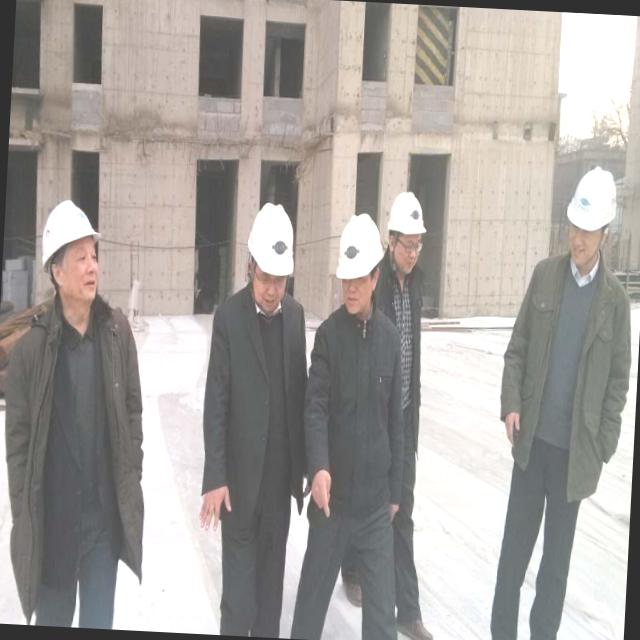helmet: (242, 198, 304, 288), (36, 198, 106, 274), (332, 207, 391, 290), (560, 162, 626, 233), (386, 190, 430, 247)
no-goggles: (62, 246, 100, 276)
no-vest: (0, 303, 161, 588), (194, 290, 318, 520), (510, 258, 635, 479), (306, 304, 410, 532)
